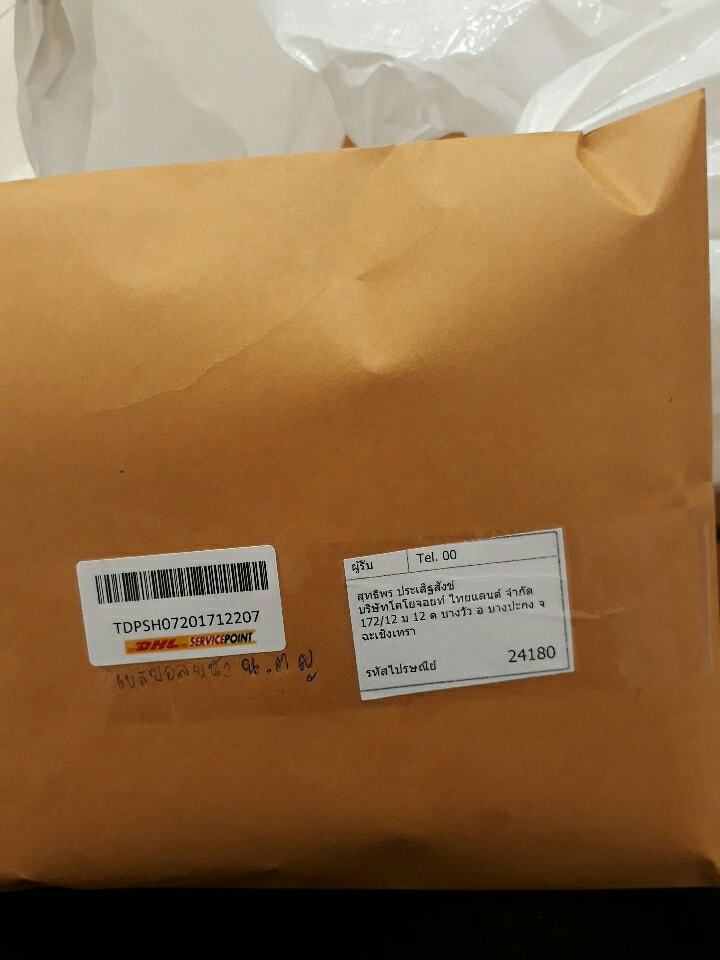ba: (67, 537, 292, 678)
txt: (348, 544, 567, 682)
